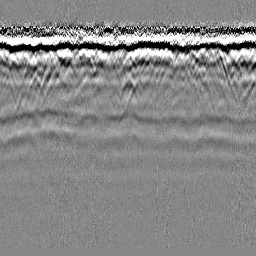cavity: (118, 75, 136, 99)
